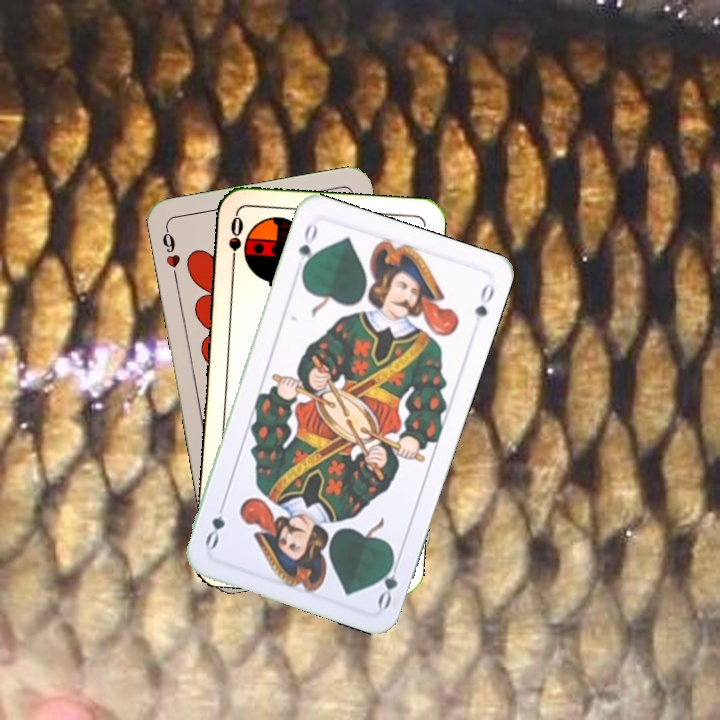GO: (373, 551, 403, 611), (294, 219, 320, 277)
H9: (158, 223, 183, 282)
SO: (224, 211, 246, 270)
